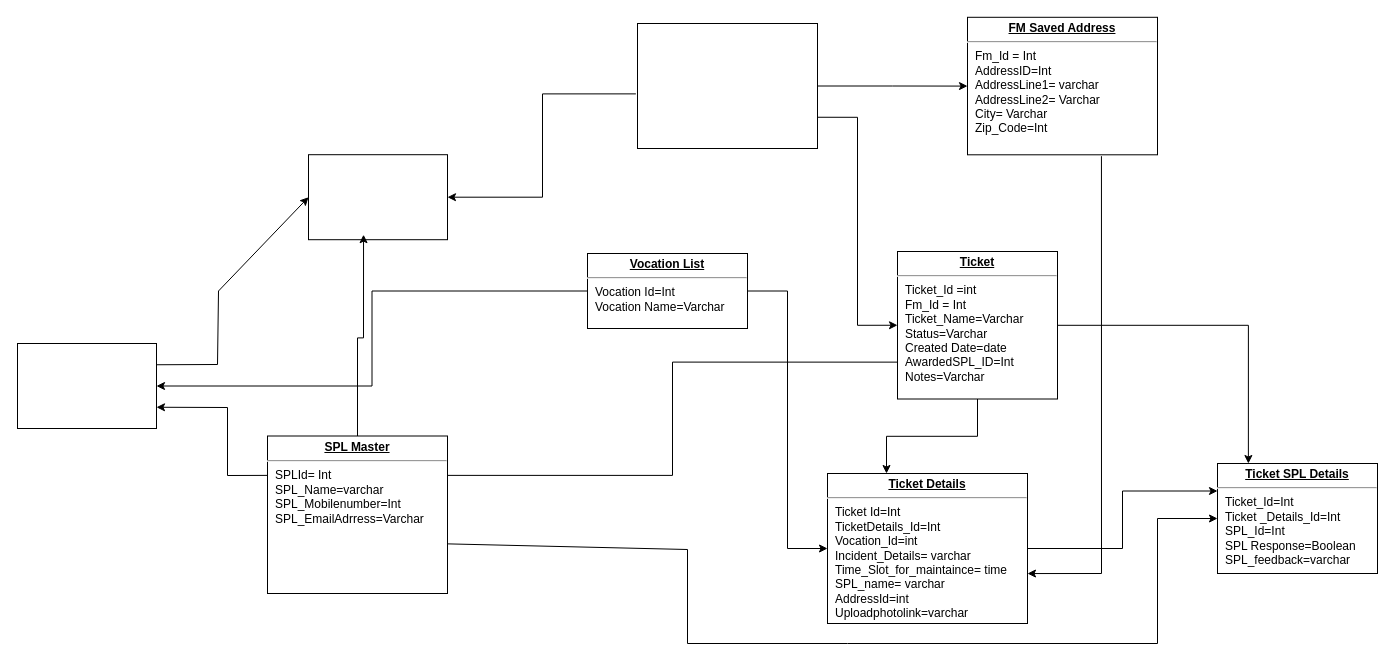
Image size: 1395x670. Some labels were removed from this diagram. Here are the shapes that lost their labels. From the top down, the centre of each, then its label:
the point at 727,85: FM master Fm_Id = Int CompanyName= varchar email= varchar phone number= int
the point at 378,197: FM SPL Link SPLId= Int Fm_Id=Int Preferred = Boolean
the point at 86,385: SPL VOC Link SPLId= Int vocationid=int
